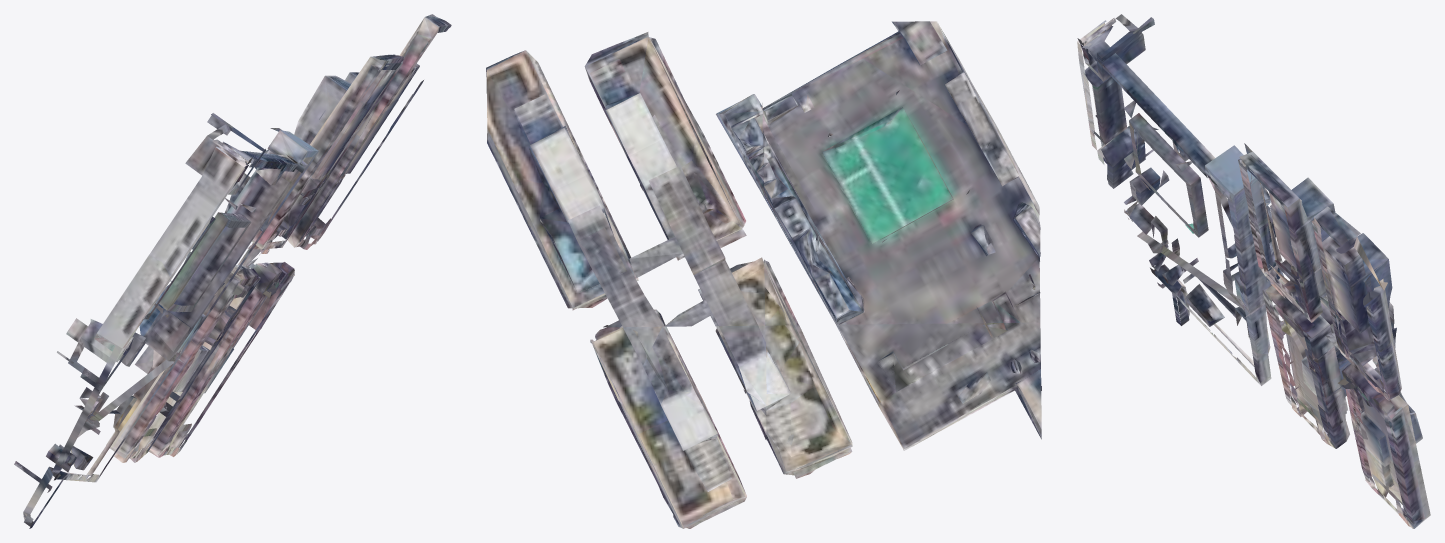
3 views of the same model, side by side, from view 1: azimuth 30°, elevation 25°; view 2: azimuth 150°, elevation 25°; view 3: azimuth 270°, elevation 25° (orthographic). The views are drawn at different scales.
Bounding box in the file's own units: 143 × 122 × 84.08.
Materials: 2 (2 with a texture image).
